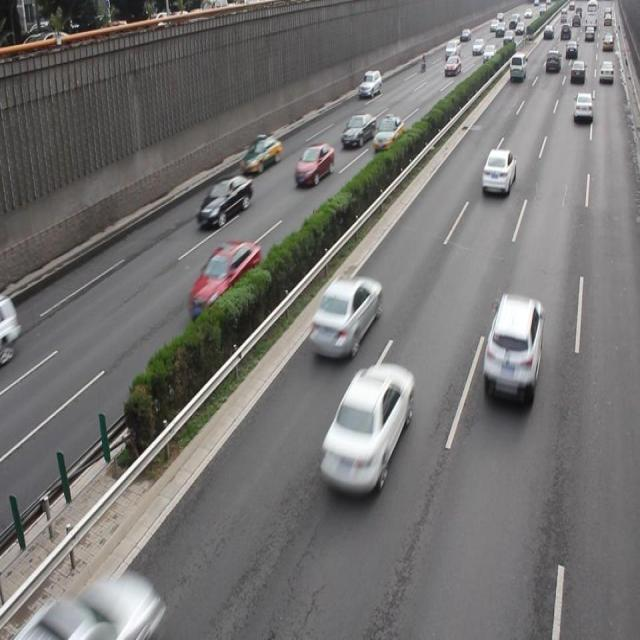car: (320, 359, 412, 498), (307, 272, 380, 361), (482, 293, 541, 402), (188, 239, 261, 318), (196, 172, 251, 227), (294, 141, 335, 187), (480, 146, 516, 195), (240, 133, 281, 174), (373, 115, 404, 153), (342, 113, 374, 149), (572, 92, 591, 121)
truck: (36, 571, 165, 640)
